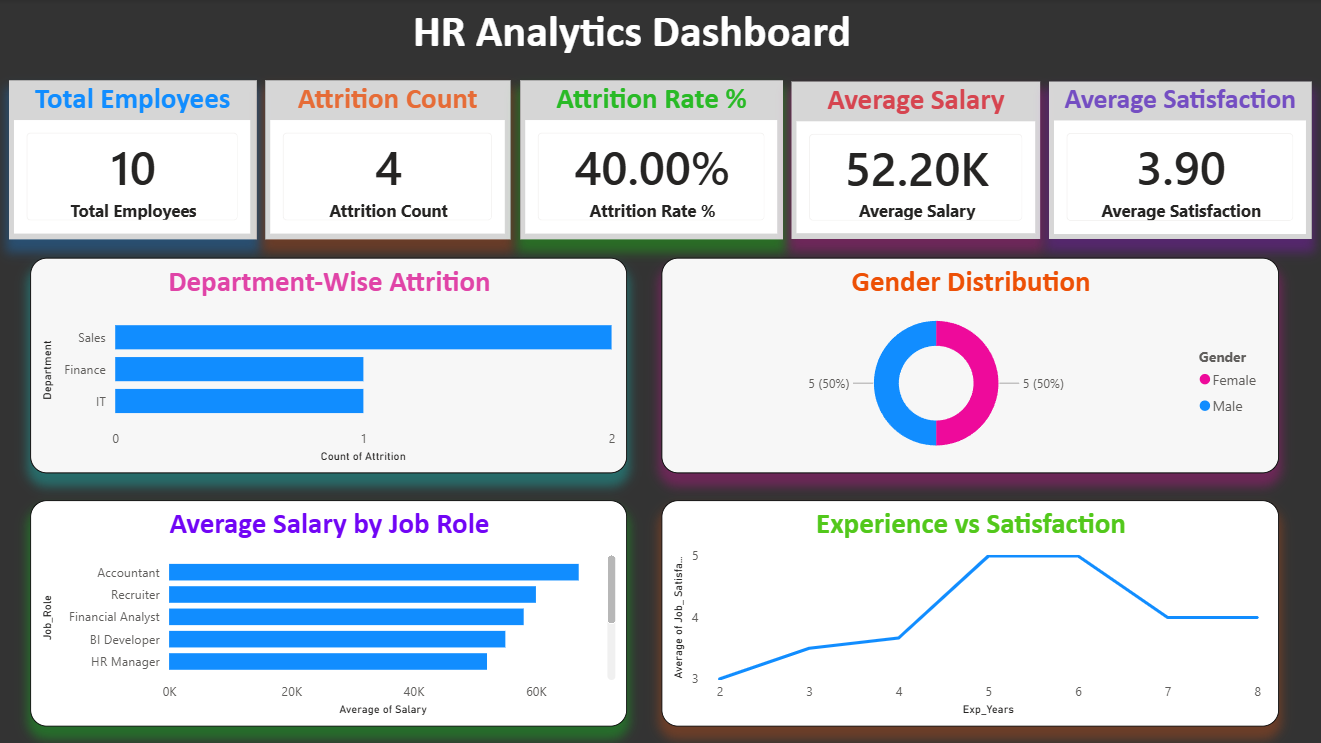

Layout of this report page (visuals, bound fields, positions):
{"tool":"powerbi","page":{"name":"Page 1","canvas":[1280,720],"ordinal":0},"visuals":[{"type":"cardVisual","title":"Total Employees","fields":{"Data":["HR_Data.Total Employees"]},"box":[9.7,78.4,238.9,153.2],"z":0},{"type":"cardVisual","title":"Attrition Count","fields":{"Data":["HR_Data.Attrition Count"]},"box":[257,78.4,236.5,153.2],"z":1000},{"type":"cardVisual","title":"Attrition Rate %","fields":{"Data":["HR_Data.Attrition Rate %"]},"box":[503.1,78.4,253.4,153.2],"z":2000},{"type":"cardVisual","title":"Average Salary","fields":{"Data":["HR_Data.Average Salary"]},"box":[764.9,79.6,240.1,152],"z":3000},{"type":"cardVisual","title":"Average Satisfaction","fields":{"Data":["HR_Data.Average Satisfaction"]},"box":[1013.4,79.6,253.4,152],"z":4000},{"type":"clusteredBarChart","title":"Department-Wise Attrition","fields":{"Category":["HR_Data.Department "],"Y":["CountNonNull(HR_Data.Attrition )"]},"box":[29.9,249.4,575.9,208.1],"z":5000},{"type":"donutChart","title":"Gender Distribution","fields":{"Category":["HR_Data.Gender"],"Y":["CountNonNull(HR_Data.Emp_ID)"]},"box":[640,249.4,595.8,208.1],"z":6000},{"type":"clusteredBarChart","title":"Average Salary by Job Role","fields":{"Category":["HR_Data.Job_Role"],"Y":["Avg(HR_Data.Salary)"]},"box":[29.9,483.2,575.9,218.1],"z":7000},{"type":"lineChart","title":"Experience vs Satisfaction","fields":{"Category":["HR_Data.Exp_Years"],"Y":["Avg(HR_Data.Job_ Satisfaction )"]},"box":[640,483.2,595.8,218.1],"z":8000},{"type":"textbox","box":[265.4,0,691.3,67.6],"z":9000}]}

Visuals, with their boxes in screenshot pixels (x1, y1, x2, y2), scaled from the page's 1280x720 canvas onto the 1321x743 screenshot:
"Total Employees" cardVisual: x1=10 y1=81 x2=257 y2=239
"Attrition Count" cardVisual: x1=265 y1=81 x2=509 y2=239
"Attrition Rate %" cardVisual: x1=519 y1=81 x2=781 y2=239
"Average Salary" cardVisual: x1=789 y1=82 x2=1037 y2=239
"Average Satisfaction" cardVisual: x1=1046 y1=82 x2=1307 y2=239
"Department-Wise Attrition" clusteredBarChart: x1=31 y1=257 x2=625 y2=472
"Gender Distribution" donutChart: x1=660 y1=257 x2=1275 y2=472
"Average Salary by Job Role" clusteredBarChart: x1=31 y1=499 x2=625 y2=724
"Experience vs Satisfaction" lineChart: x1=660 y1=499 x2=1275 y2=724
textbox: x1=274 y1=0 x2=987 y2=70
